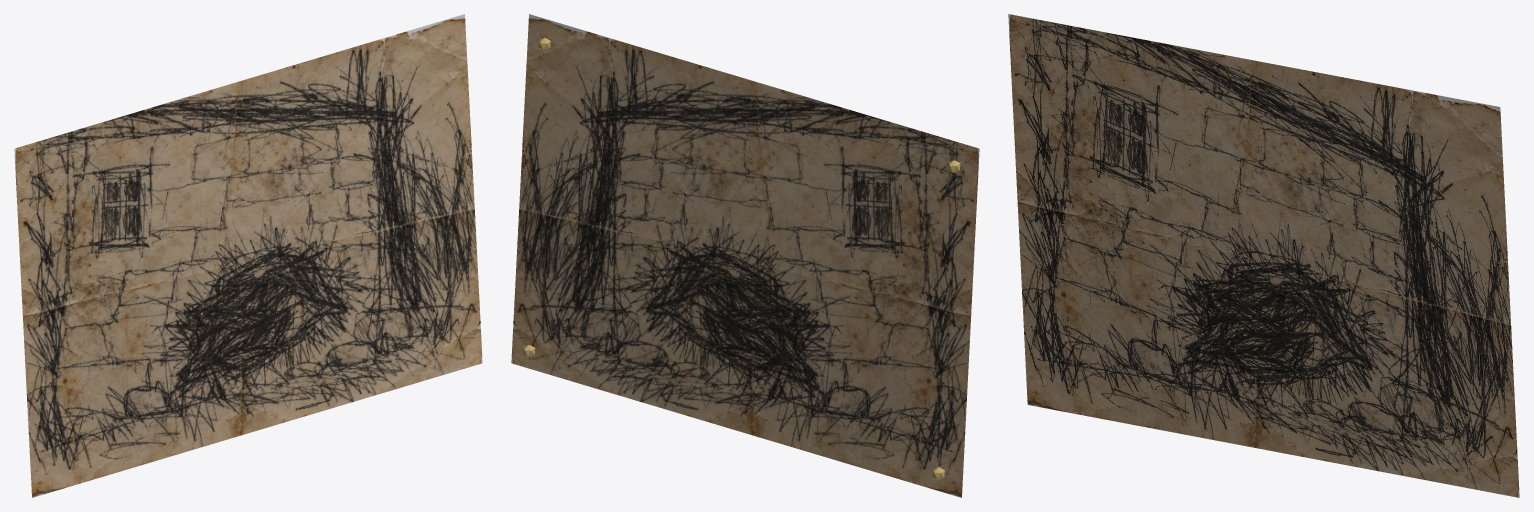
The model's file is room_child_room__画·黑布.gltf.
The picture shows the model from 3 angles, left to right: view 1: azimuth 30°, elevation 25°; view 2: azimuth 150°, elevation 25°; view 3: azimuth 330°, elevation 25°; orthographic projection. The views are drawn at different scales.
Parts seen in each view (by area): view 1: 艾瑞斯的房间·画·黑布; view 2: 艾瑞斯的房间·画·黑布; view 3: 艾瑞斯的房间·画·黑布.
Boxes of the visible parts, left/top/right/bottom form: 艾瑞斯的房间·画·黑布: left=14, top=14, right=482, bottom=497; 艾瑞斯的房间·画·黑布: left=511, top=14, right=979, bottom=497; 艾瑞斯的房间·画·黑布: left=1008, top=14, right=1519, bottom=497.
Bounding box in the file's own units: 0.4567 × 0.3526 × 0.0116.
2 materials, 1 textured.
